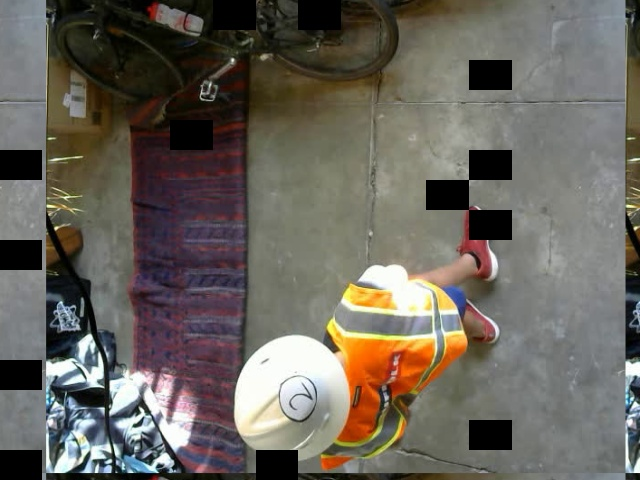two: (276, 374, 316, 420)
